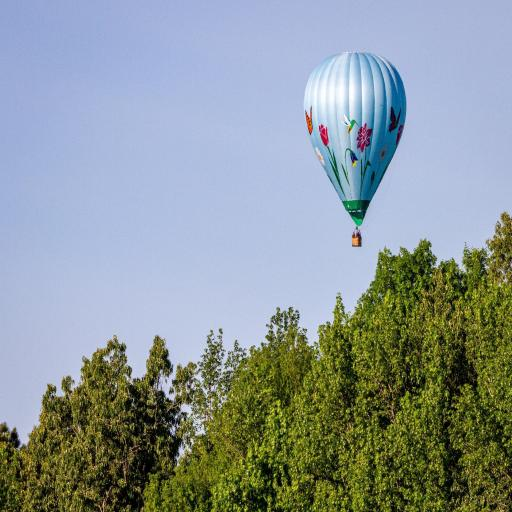hot air ballon: (304, 47, 408, 250)
